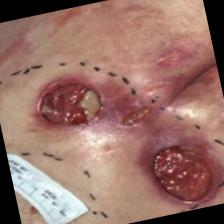pressure-wound: (17, 62, 118, 139), (136, 126, 224, 213), (110, 99, 168, 130)
